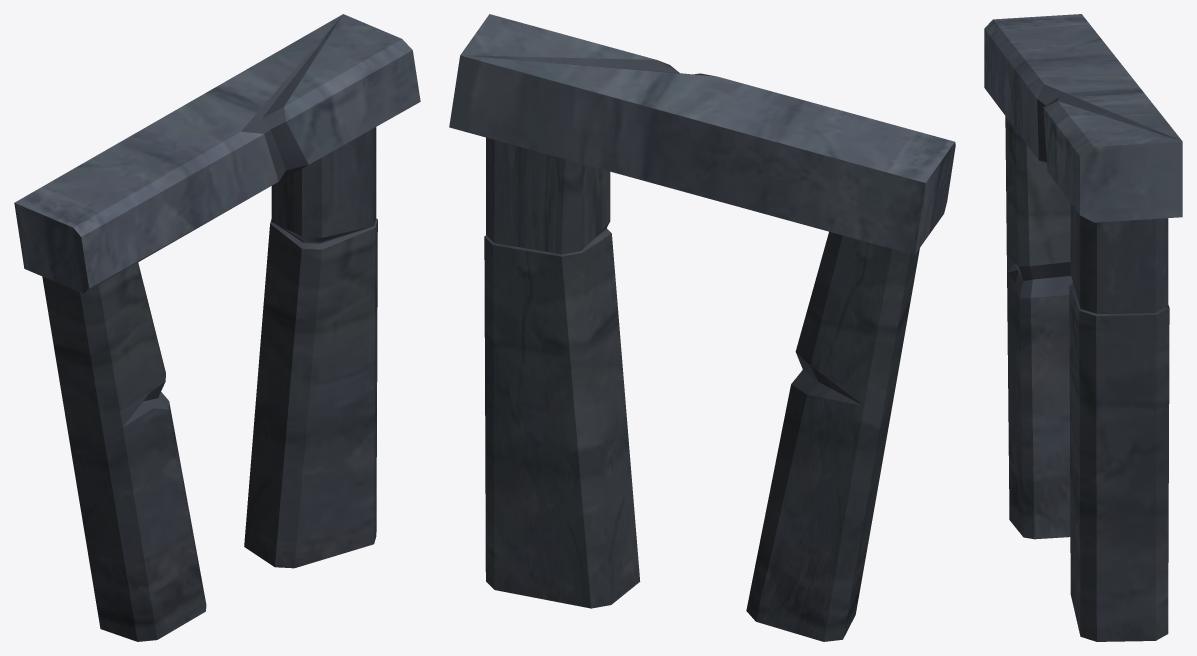
The model's file is pm-stand-arc-02.glb.
3 views of the same model, side by side, from view 1: azimuth 30°, elevation 25°; view 2: azimuth 150°, elevation 25°; view 3: azimuth 270°, elevation 25° (orthographic). The views are drawn at different scales.
Parts seen in each view (by area): view 1: StandArc02; view 2: StandArc02; view 3: StandArc02.
Part boxes in pixels (x1=…): StandArc02: x1=14, y1=14, x2=420, y2=641; StandArc02: x1=449, y1=14, x2=955, y2=641; StandArc02: x1=984, y1=14, x2=1182, y2=641.
Size of what is drawn, in the model's own units: 6.39 by 7.61 by 2.63.
Materials: 1 (1 with a texture image).
